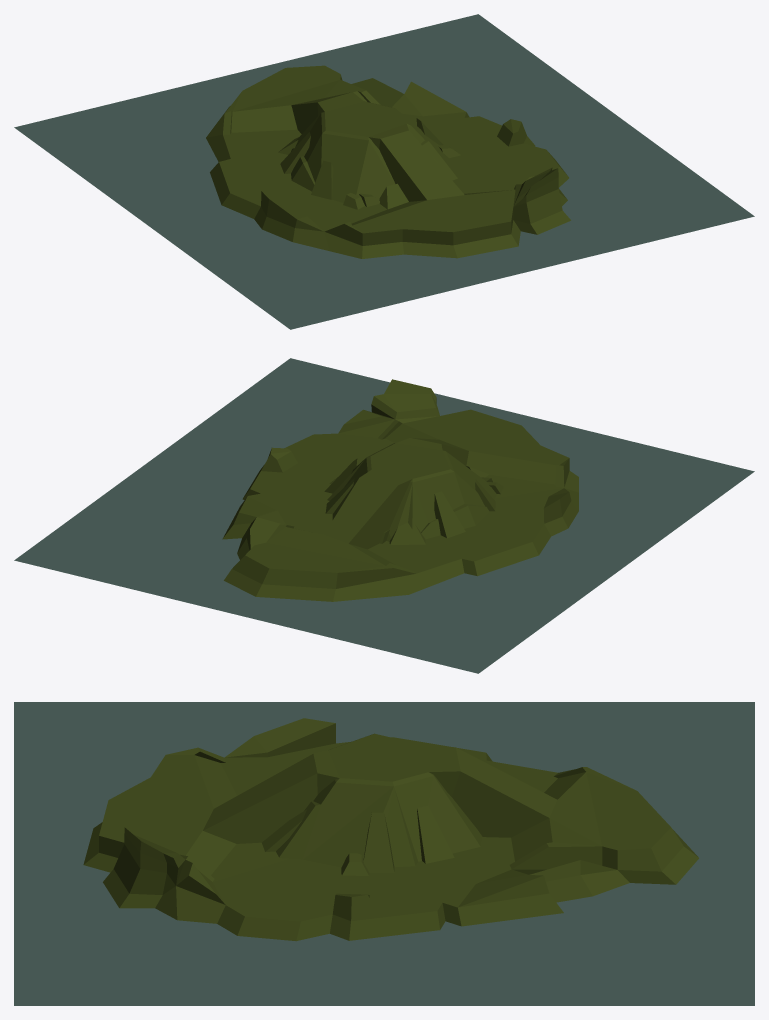
The model's file is Island.fbx.
3 views of the same model, one above another, from view 1: azimuth 30°, elevation 25°; view 2: azimuth 150°, elevation 25°; view 3: azimuth 270°, elevation 25° (orthographic). The views are drawn at different scales.
Parts seen in each view (by area): view 1: Sea1, Island; view 2: Sea1, Island; view 3: Sea1, Island.
Boxes of the visible parts, x1,y1,x2,y2 form: Sea1: [14, 14, 754, 329]; Island: [206, 65, 570, 258]; Sea1: [14, 358, 754, 673]; Island: [222, 379, 578, 601]; Sea1: [14, 702, 754, 1005]; Island: [83, 718, 698, 941].
Bounding box in the file's own units: 1110 × 137 × 1144.
